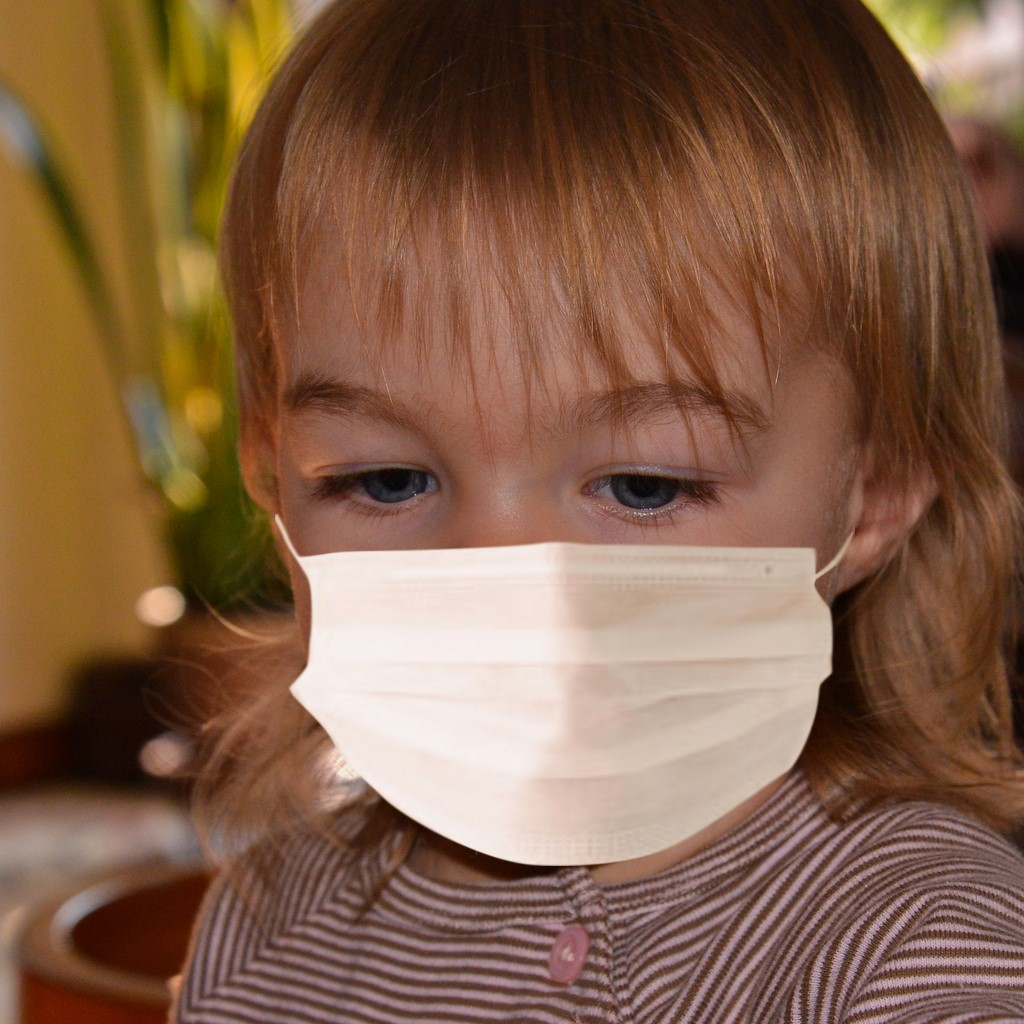con_mascara: (233, 128, 884, 827)
